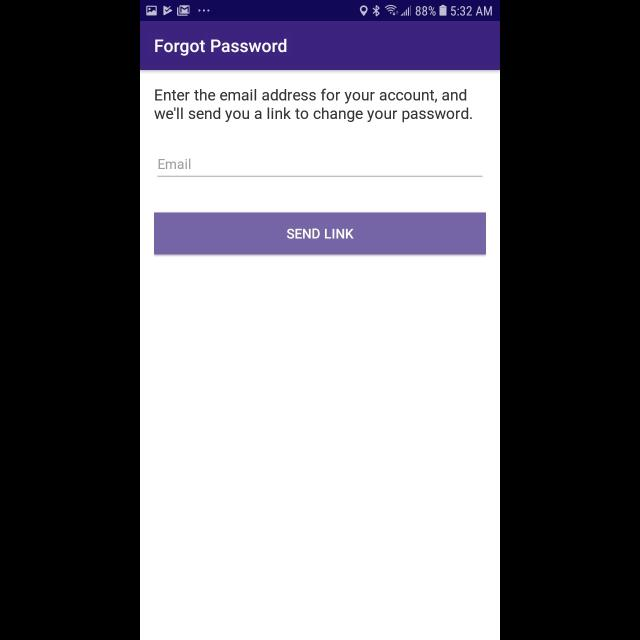input: (158, 158, 482, 178)
text: (155, 89, 473, 123), (155, 39, 287, 57), (159, 158, 191, 170)
textbutton: (154, 213, 486, 255)
uppertaskbar: (140, 1, 500, 22)
